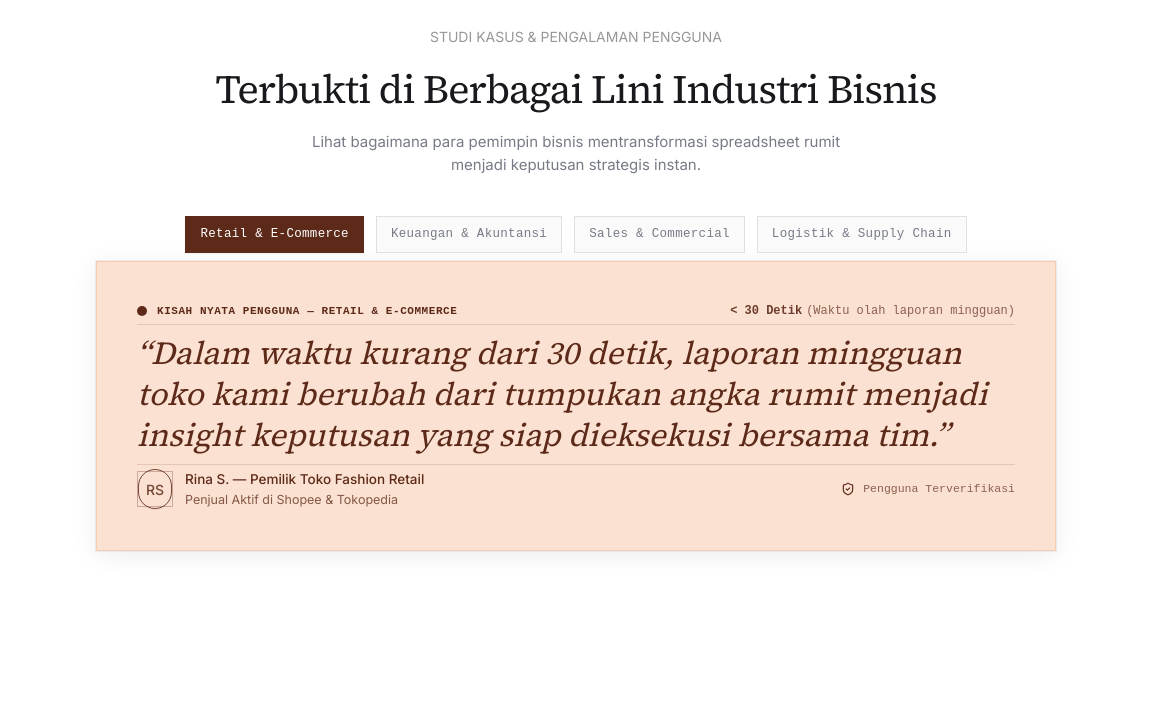
Test: Landing Page & Editorial Showcase › renders EditorialQuoteSection with 4 industry personas and switches persona
Expected: the text "Dalam waktu kurang dari 30 detik" is shown, left=137, top=331, right=988, bottom=457
Expected: the text "Rina S. — Pemilik Toko Fashion Retail" is shown, left=185, top=469, right=424, bottom=489
// Switch to Finance persona
Step 1. Click the button "Keuangan & Akuntansi" → [469, 234], box left=376, top=216, right=562, bottom=253
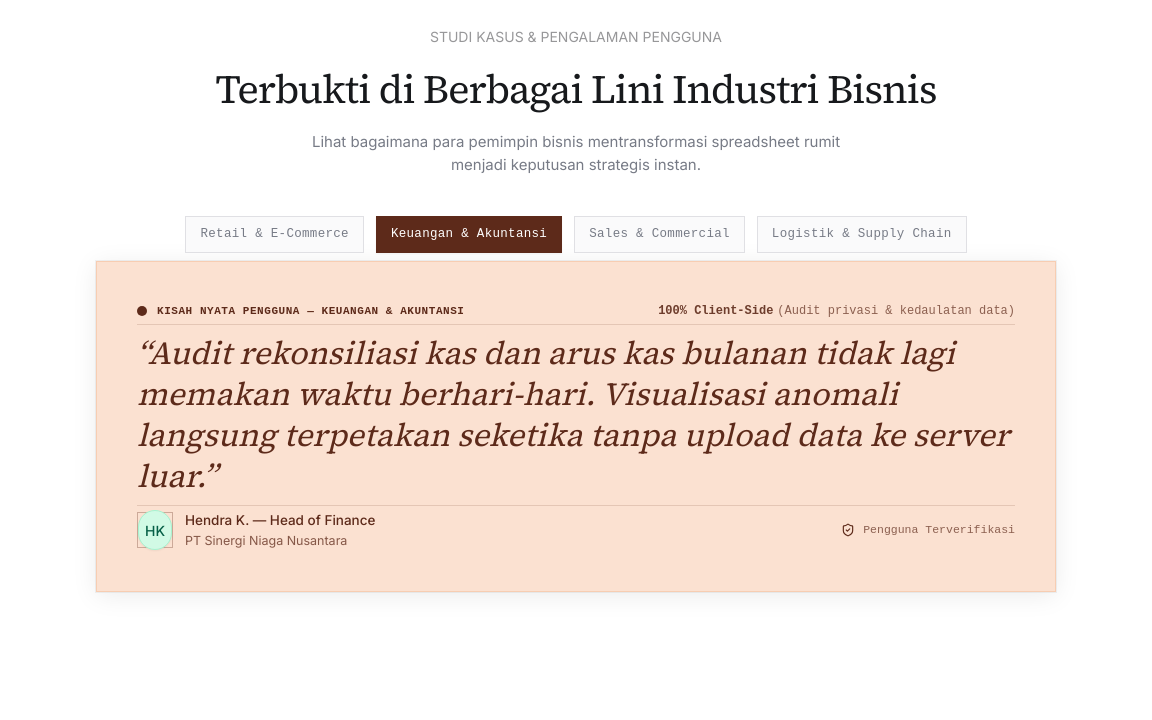
Now the text "Hendra K. — Head of Finance" is shown, box left=185, top=510, right=375, bottom=530
Now the text "Audit rekonsiliasi kas" is shown, box left=137, top=331, right=1009, bottom=498
// Switch to Sales persona
Step 2. Click the button "Sales & Commercial" → [660, 234], box left=574, top=216, right=745, bottom=253
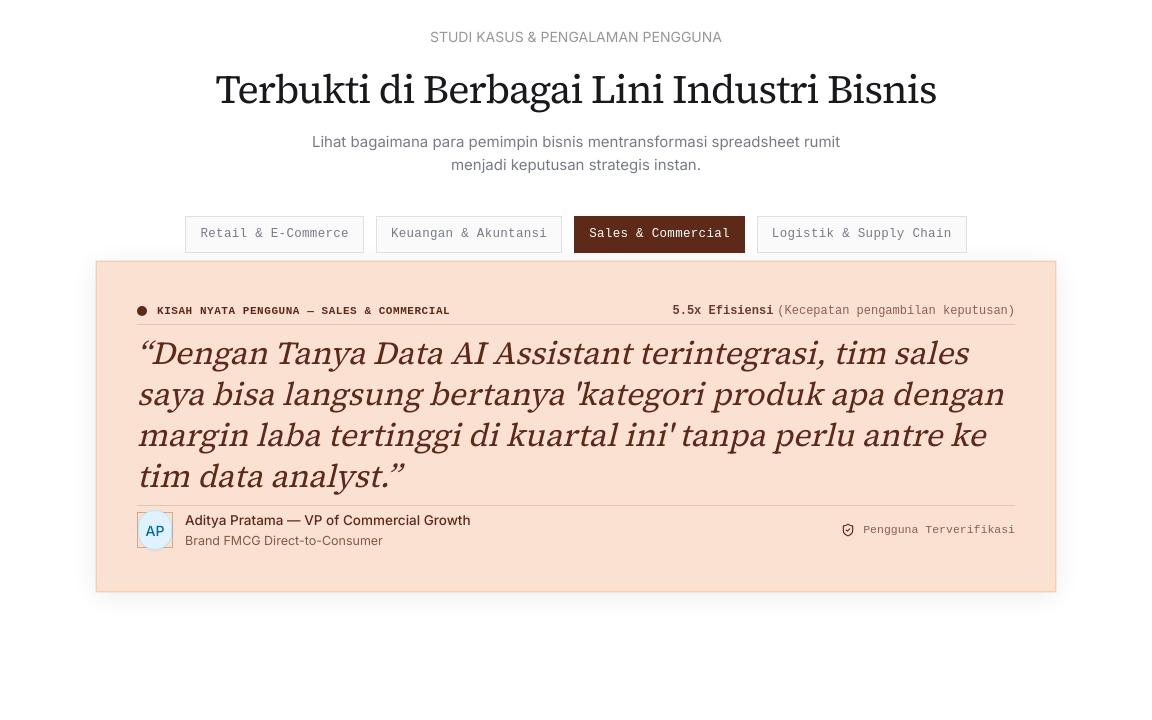
Now the text "Aditya Pratama — VP of Commercial Growth" is shown, box left=185, top=510, right=471, bottom=530
Now the text "Tanya Data AI Assistant" is shown, box left=137, top=331, right=1004, bottom=498
